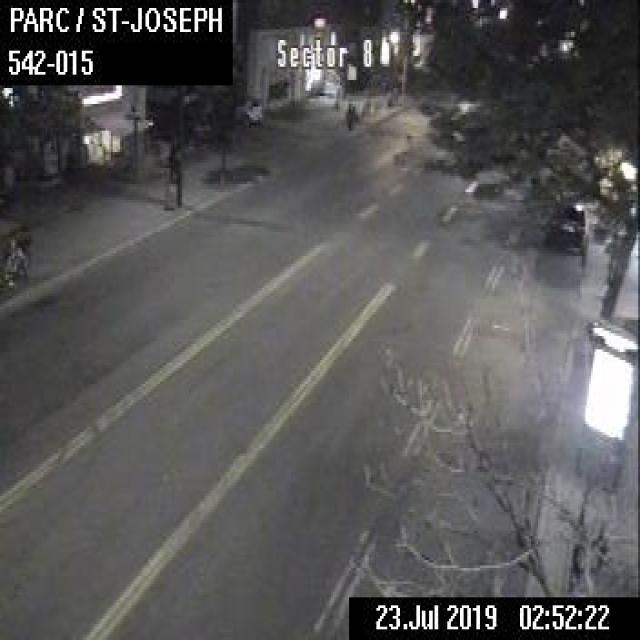vehicle: (546, 200, 584, 247), (231, 94, 261, 124)
